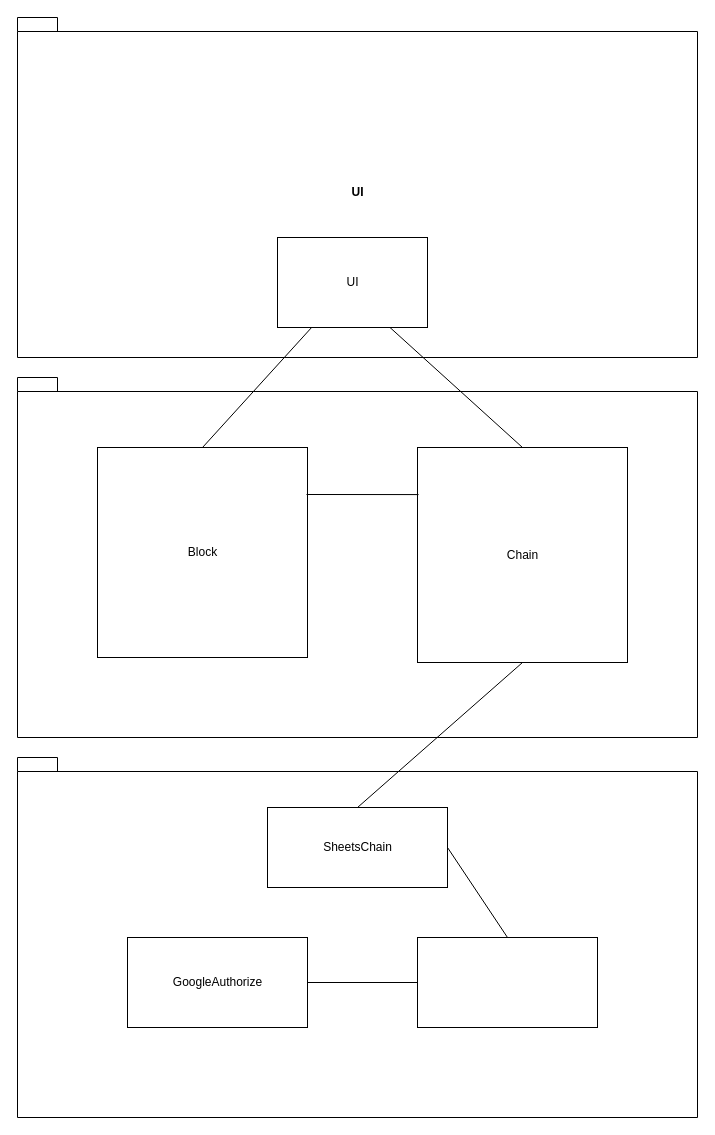
The diagram is 715 pixels wide and 1135 high, and some of its shapes have lost their labels. Each missing label, with the box of its shape:
googlesheets: (16, 756, 698, 1118)
logic: (16, 376, 698, 738)
SheetsService: (416, 936, 598, 1028)
